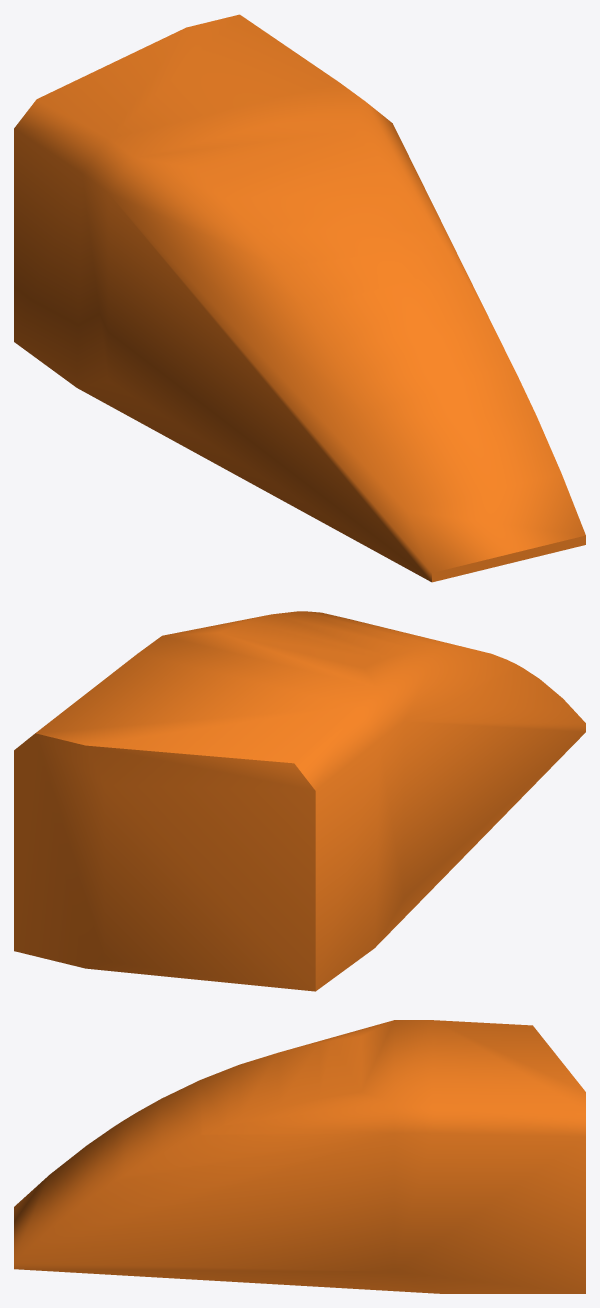
The picture shows the model from 3 angles, top to bottom: view 1: azimuth 30°, elevation 25°; view 2: azimuth 150°, elevation 25°; view 3: azimuth 270°, elevation 25°; orthographic projection. The views are drawn at different scales.
Parts seen in each view (by area): view 1: gripper_frame; view 2: gripper_frame; view 3: gripper_frame.
Part boxes in pixels (x1,y1,x2,y2): gripper_frame: (14,14,585,582); gripper_frame: (14,611,585,991); gripper_frame: (14,1020,585,1293).
Size of the model in its own units: 0.0314 by 0.026 by 0.0743.
